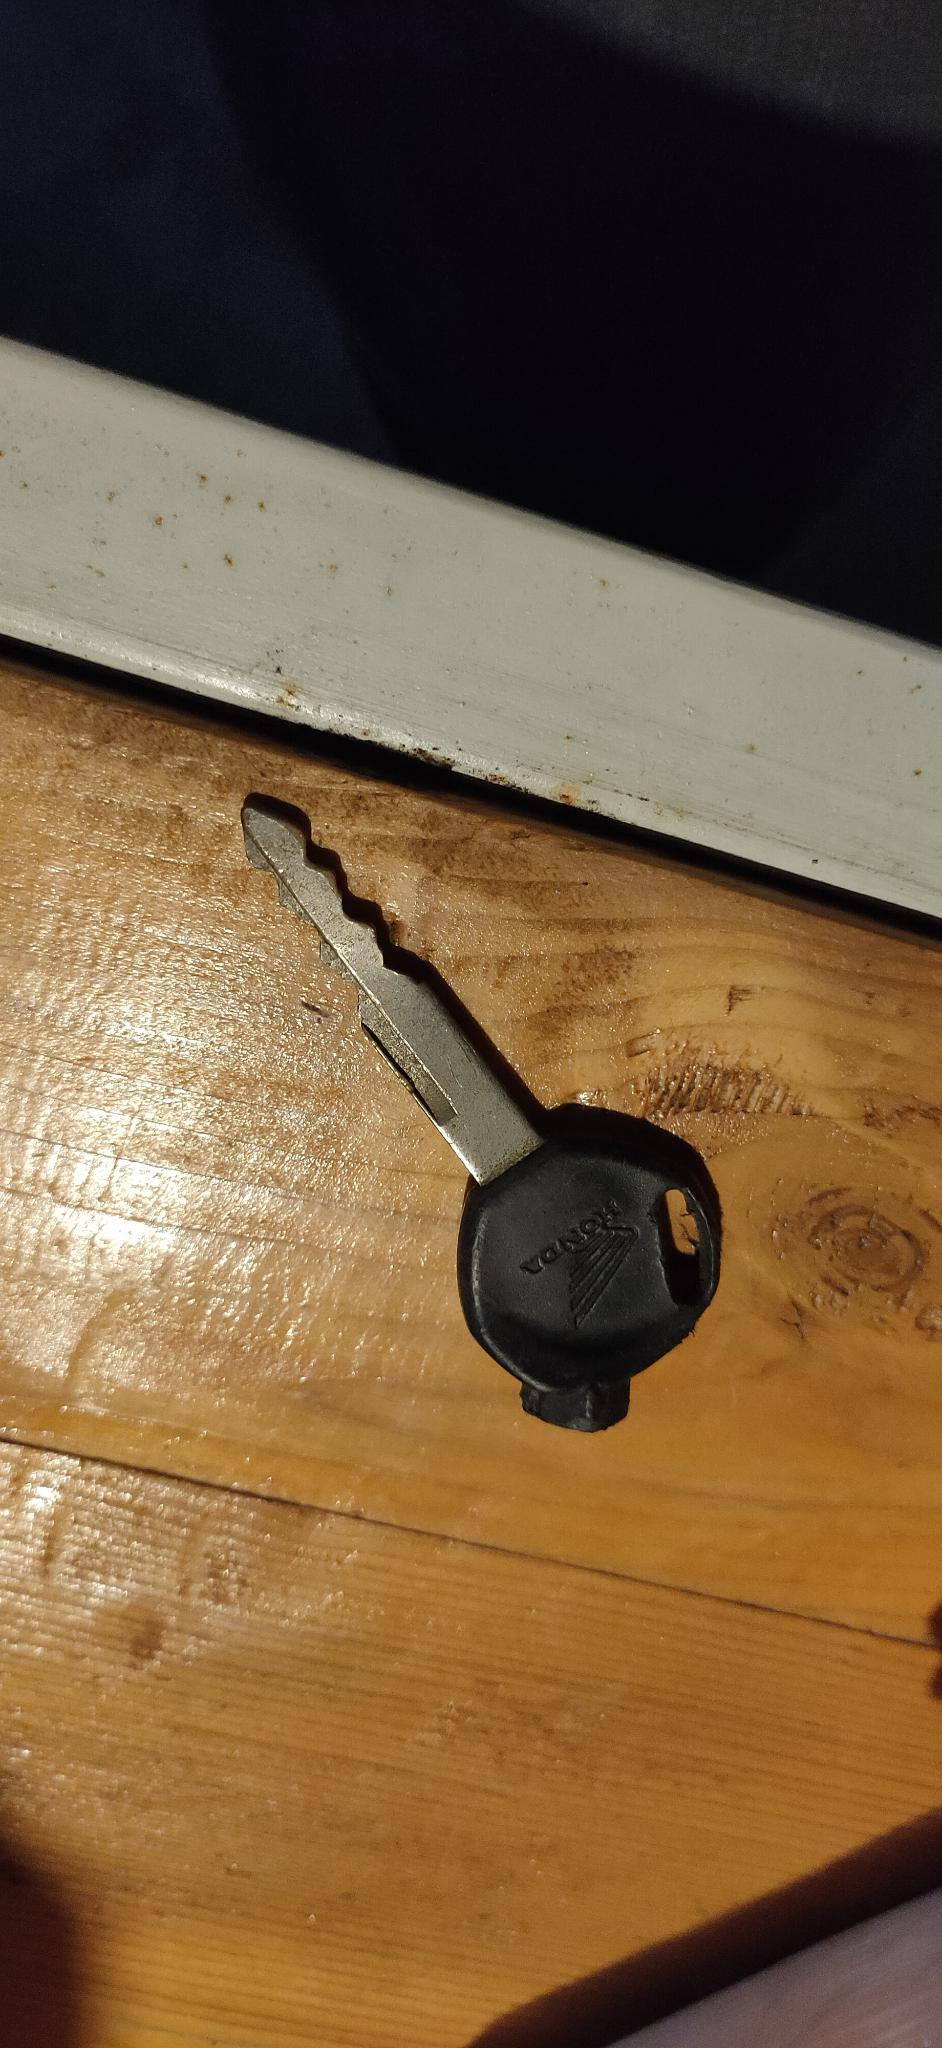keys: (216, 789, 741, 1459)
